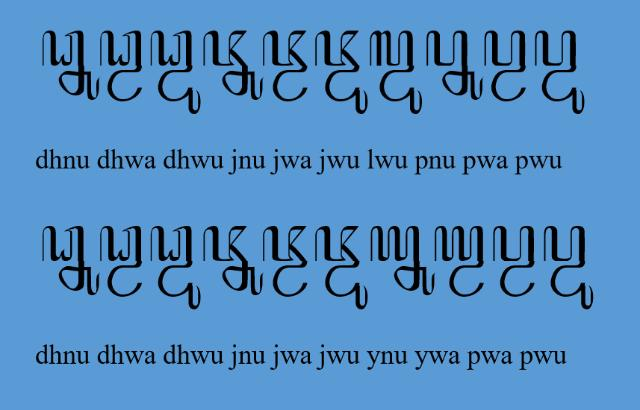dhnu: (41, 226, 100, 296), (42, 30, 100, 100)
dhw: (99, 226, 143, 298), (100, 30, 142, 102)
dhwu: (150, 29, 200, 115), (150, 225, 200, 311)
jnu: (203, 30, 263, 100), (203, 226, 263, 296)
jw: (262, 30, 308, 102), (262, 227, 308, 298)
jwu: (314, 29, 368, 114), (314, 226, 368, 310)
lwu: (370, 29, 422, 114)
pnu: (426, 29, 484, 101)
pw: (492, 225, 534, 299), (484, 30, 526, 102)
pwu: (534, 30, 584, 116), (543, 226, 593, 310)
ynu: (370, 226, 436, 296)
yw: (434, 226, 484, 298)
